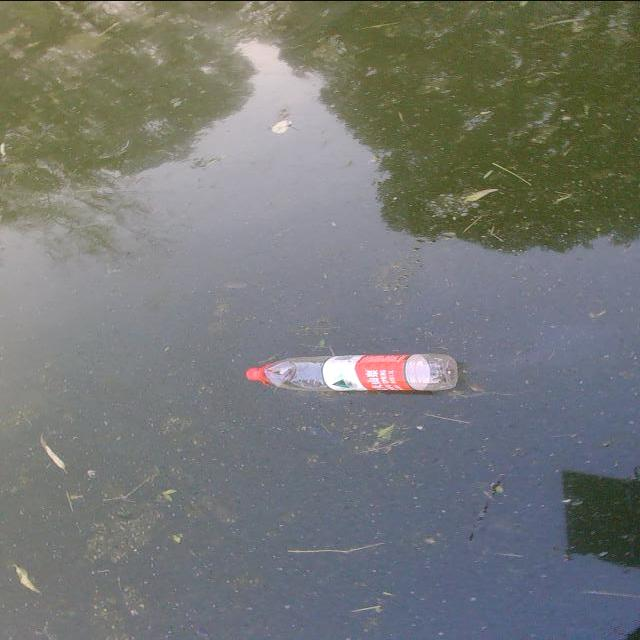bottle: (240, 334, 465, 400)
